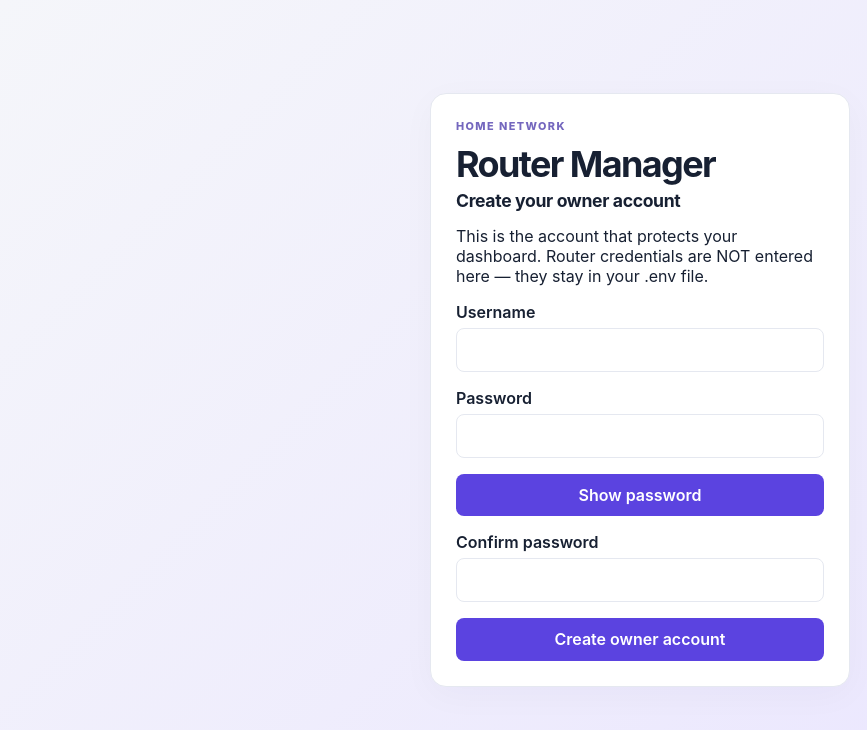
Test: first-run owner form › requires matching passwords
In the field labelled "Username": (640, 350) [456,328,824,372], type "owner"
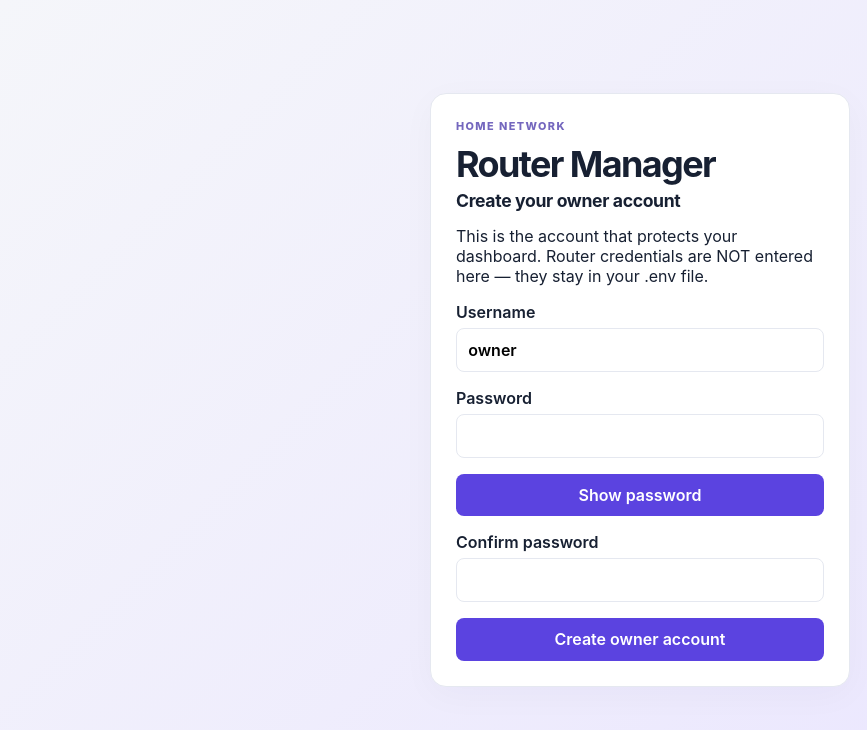
In the password field labelled "Password": (640, 436) [456,414,824,458], type "long-password"
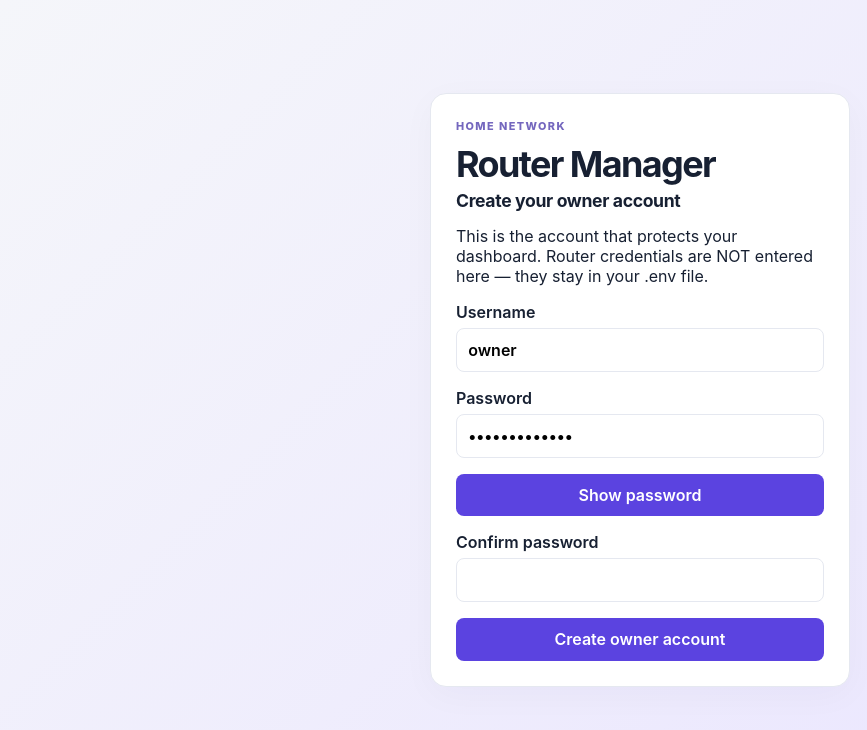
In the password field labelled "Confirm password": (640, 580) [456,558,824,602], type "another-long-password"
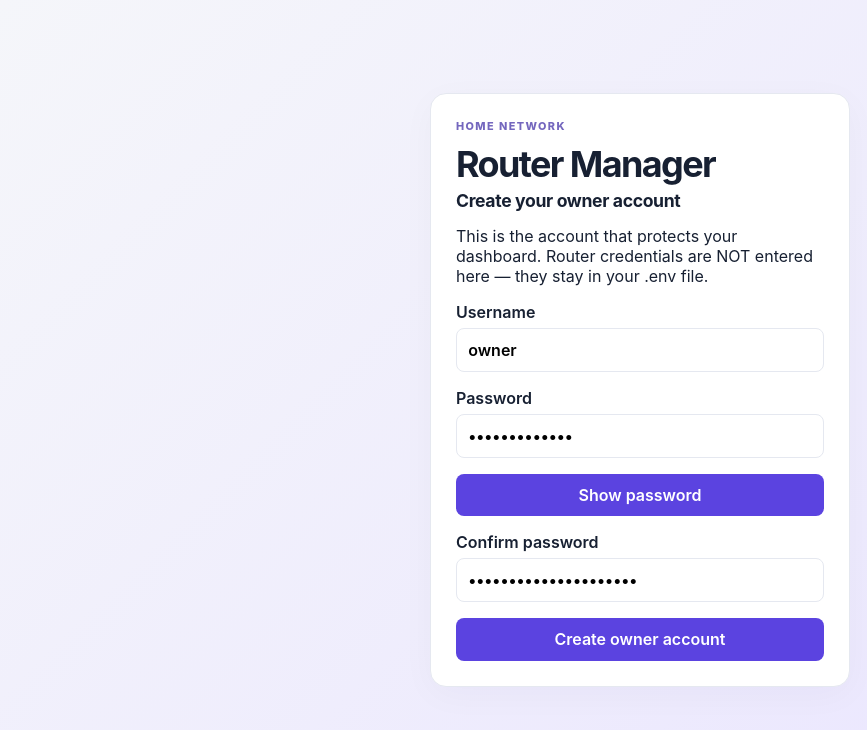
Click the button "Create owner account": (640, 640) [456,618,824,661]
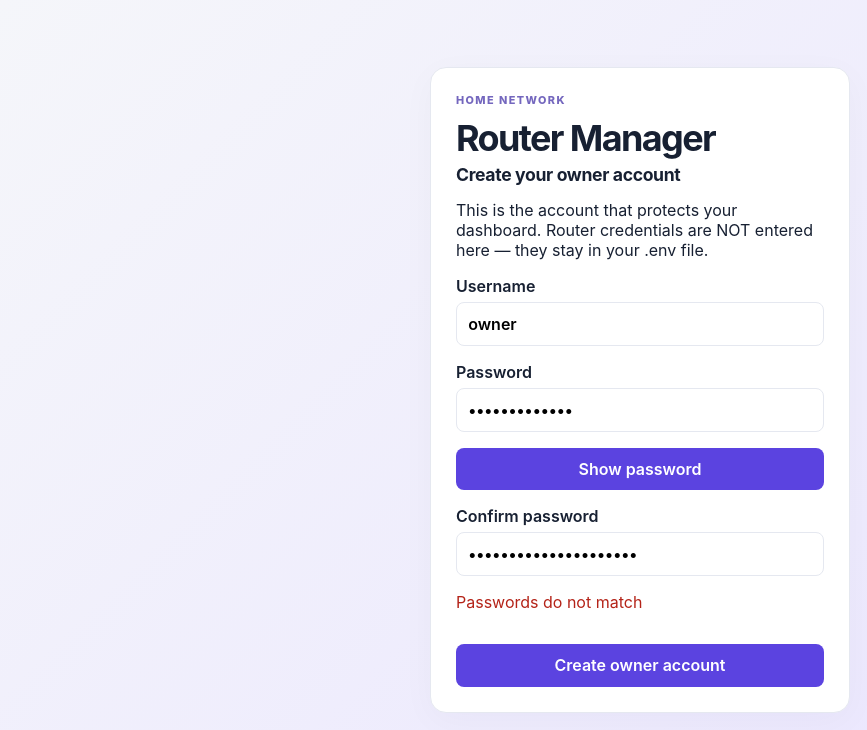
expect the message reads "Passwords do not match": met, box [456,592,642,612]
